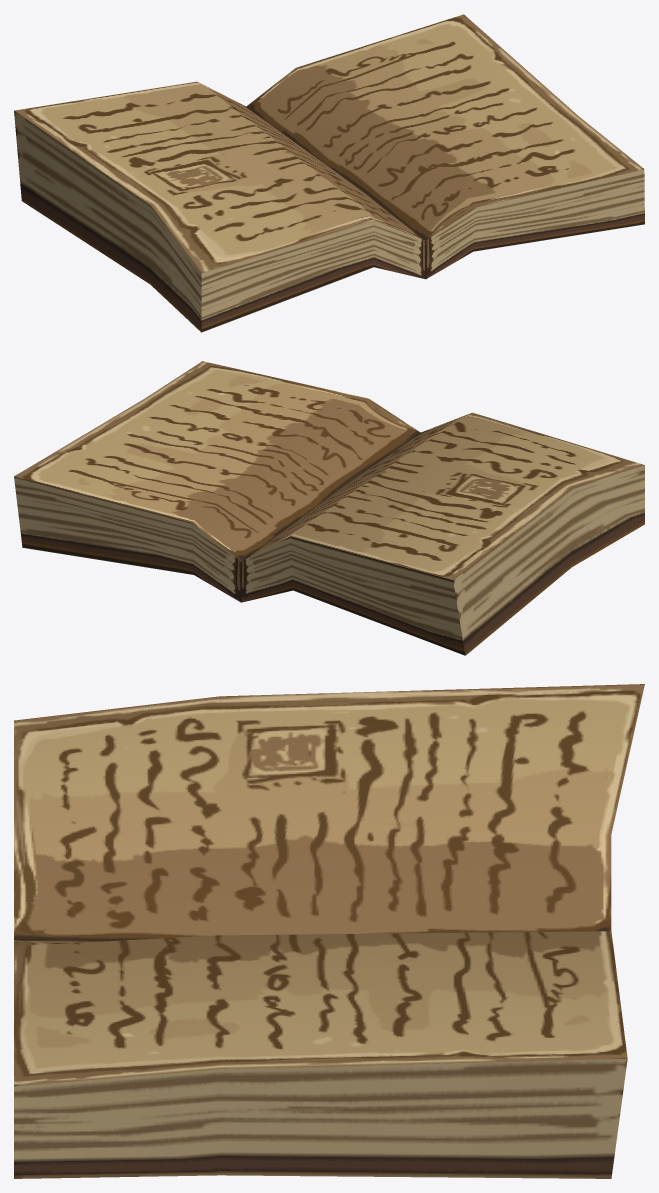
File: SM_PROP_book_dungeon_07.fbx
3 views of the same model, one above another, from view 1: azimuth 30°, elevation 25°; view 2: azimuth 150°, elevation 25°; view 3: azimuth 270°, elevation 25° (orthographic). The views are drawn at different scales.
Parts seen in each view (by area): view 1: SM_PROP_book_dungeon_07; view 2: SM_PROP_book_dungeon_07; view 3: SM_PROP_book_dungeon_07.
Boxes of the visible parts, bbox=[...] form: SM_PROP_book_dungeon_07: bbox=[14, 14, 644, 332]; SM_PROP_book_dungeon_07: bbox=[14, 361, 644, 655]; SM_PROP_book_dungeon_07: bbox=[14, 684, 644, 1178].
Size of the model in its own units: 42.48 by 7.63 by 31.24.
